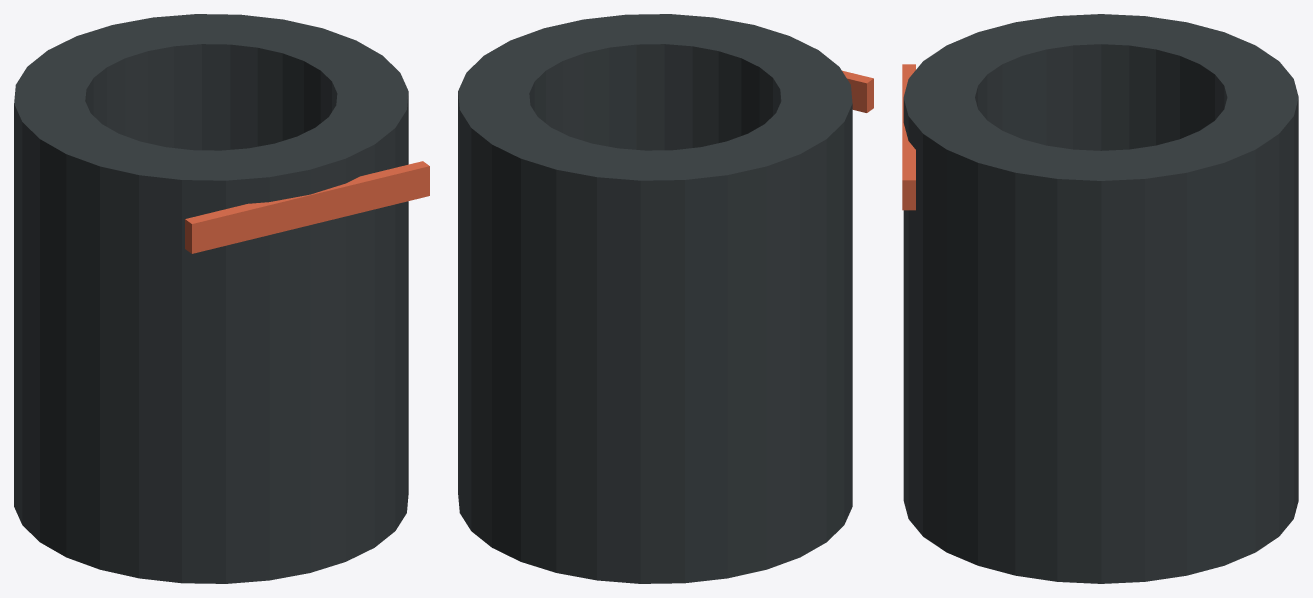
The model's file is tyre-stack-warming-blankets.glb.
The picture shows the model from 3 angles, left to right: view 1: azimuth 30°, elevation 25°; view 2: azimuth 150°, elevation 25°; view 3: azimuth 270°, elevation 25°; orthographic projection.
Parts seen in each view (by area): view 1: blanketed-tyre-stack; view 2: blanketed-tyre-stack; view 3: blanketed-tyre-stack.
Part boxes in pixels (box(x1,y1,x2,y2)): blanketed-tyre-stack: box(14, 14, 429, 583); blanketed-tyre-stack: box(458, 14, 873, 583); blanketed-tyre-stack: box(902, 14, 1298, 583).
Bounding box in the file's own units: 0.72 × 0.81 × 0.7225.
